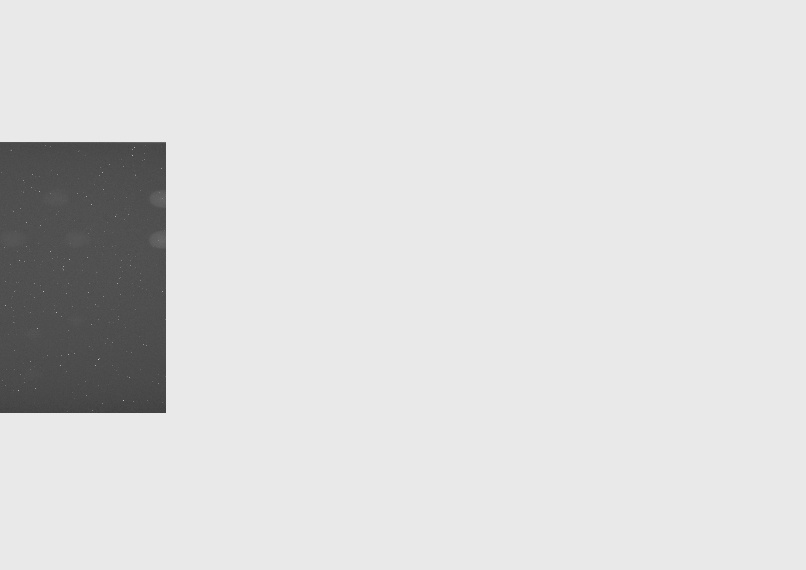cluster: (1, 189, 90, 249), (147, 188, 166, 250)
